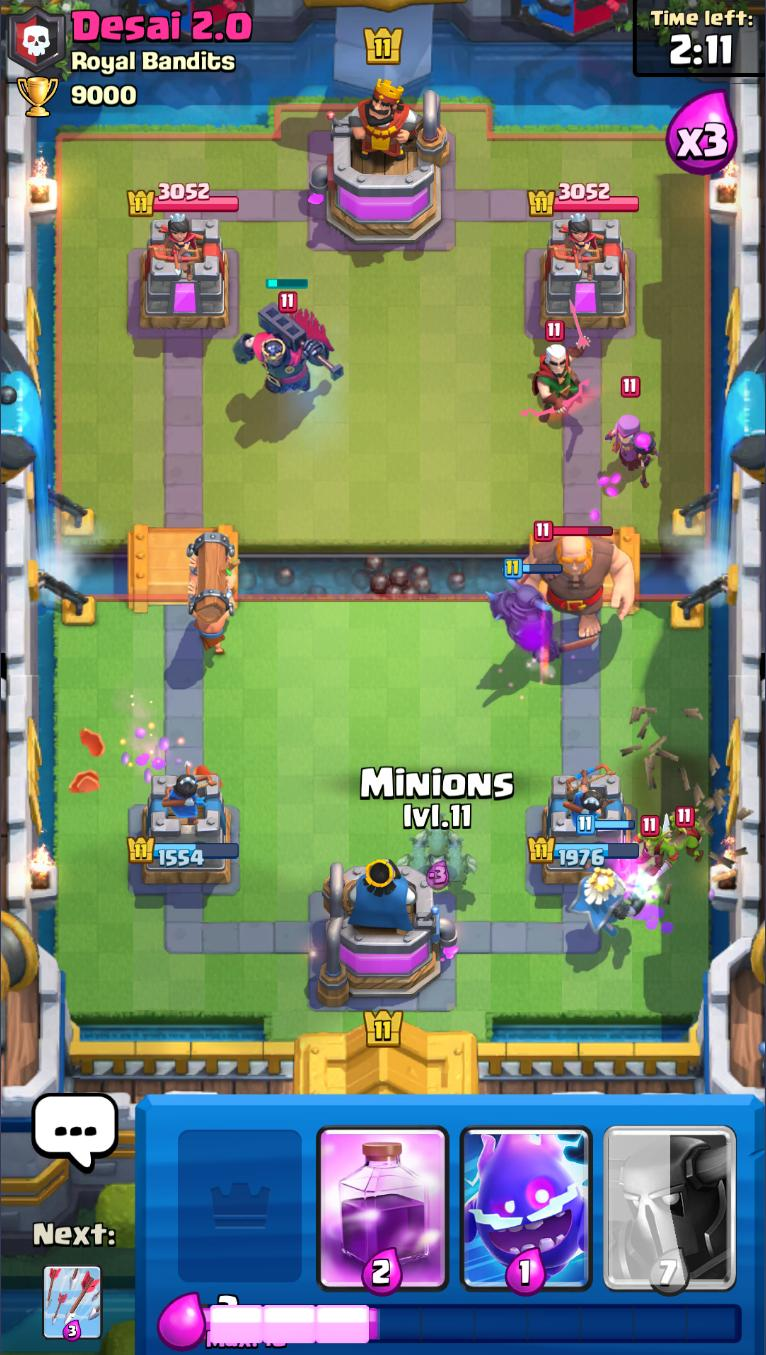ArrowNext: (41, 1264, 103, 1343)
ElectroSpiritDeck: (454, 1096, 600, 1296)
Elixir: (203, 1294, 744, 1351)
Empty: (166, 1096, 311, 1294)
EnemyTower: (136, 214, 234, 334), (539, 214, 633, 333)
Giant: (517, 520, 637, 639)
Goblin: (633, 817, 681, 876), (666, 804, 709, 864)
KingTower: (309, 79, 454, 250)
MagicArcher: (521, 297, 591, 419)
MotherWitch: (604, 377, 661, 486)
MyBattleRam: (183, 531, 239, 656)
MyKingTower: (314, 859, 460, 1011)
MyPekka: (487, 560, 597, 661)
MyPrincessTower: (124, 770, 240, 893), (527, 771, 641, 889)
MyPrincessTowerHP: (124, 834, 241, 867), (526, 834, 641, 866)
MyRoyaleGhost: (573, 814, 634, 940)
PekkaDeck: (597, 1094, 741, 1299)
PrincessTower: (147, 217, 206, 266), (550, 217, 604, 266)
RageDeck: (313, 1099, 451, 1297)
SkeletonKing: (233, 279, 346, 396)
TowerPrincessHP: (127, 181, 240, 217), (530, 183, 641, 217)
